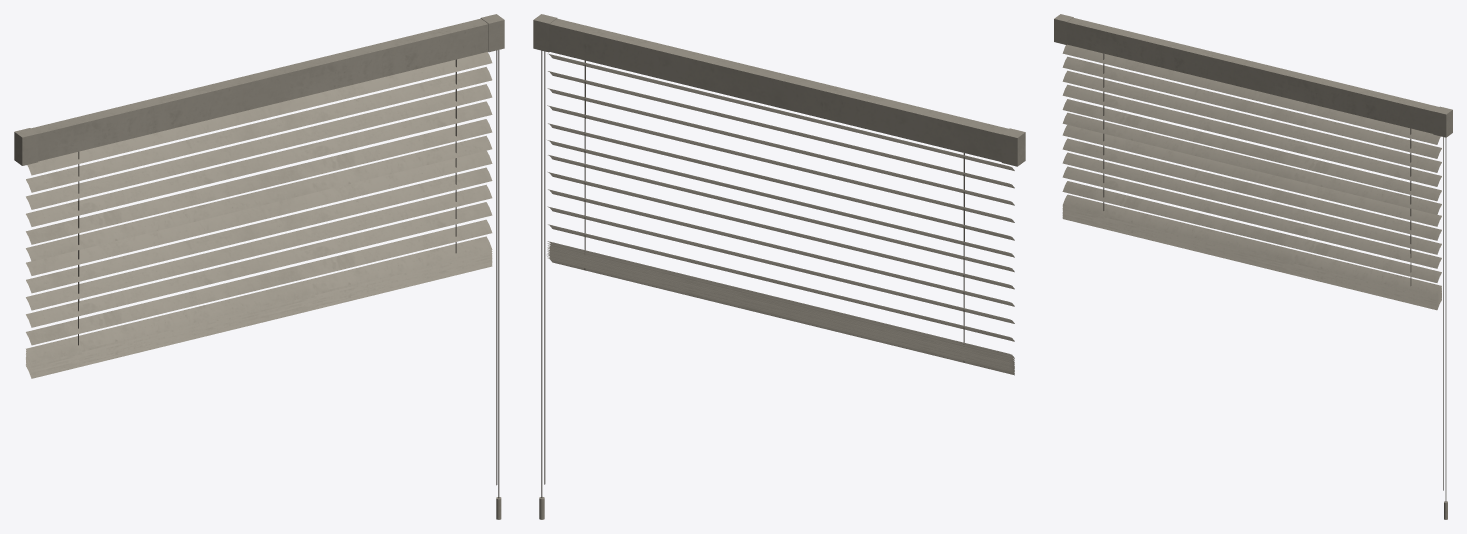
The model's file is JalousieOpen.FBX.
3 views of the same model, side by side, from view 1: azimuth 30°, elevation 25°; view 2: azimuth 150°, elevation 25°; view 3: azimuth 330°, elevation 25° (orthographic). The views are drawn at different scales.
Visible parts, largest first — view 1: JalousieOpen; view 2: JalousieOpen; view 3: JalousieOpen.
Part boxes in pixels (bbox=[...]): JalousieOpen: bbox=[14, 14, 504, 519]; JalousieOpen: bbox=[533, 14, 1025, 519]; JalousieOpen: bbox=[1054, 14, 1452, 519].
Bounding box in the file's own units: 147 × 145 × 4.28.
